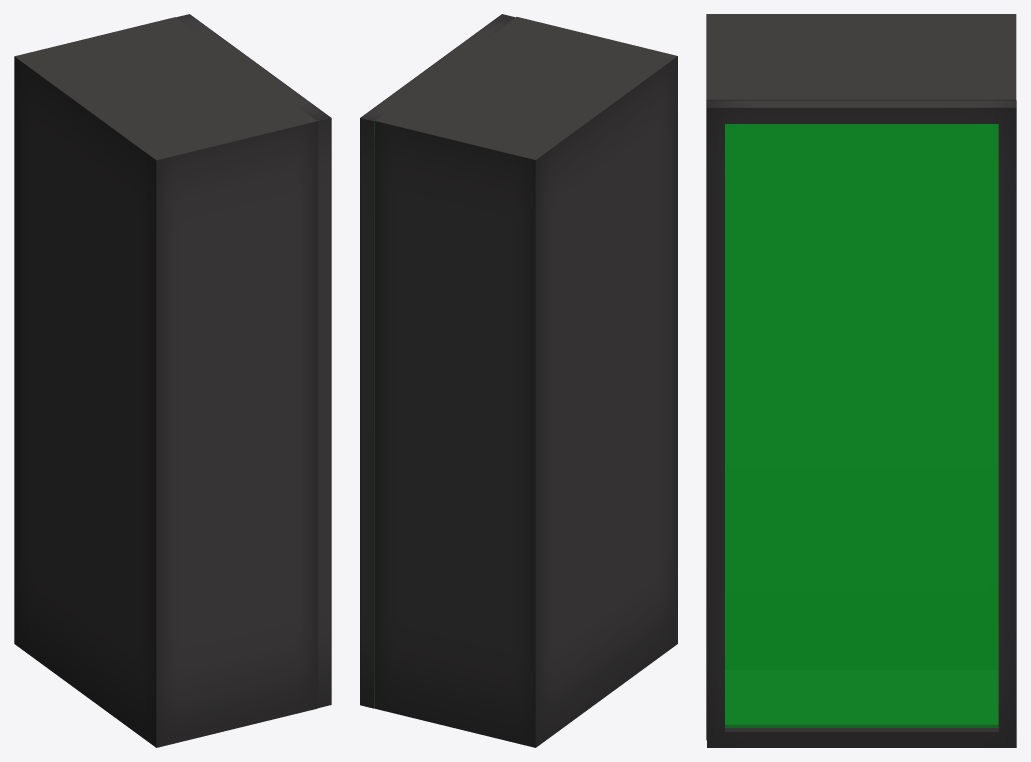
File: SM_Cabinet.fbx
3 renders of one model, left to right at view 1: azimuth 30°, elevation 25°; view 2: azimuth 150°, elevation 25°; view 3: azimuth 270°, elevation 25°, orthographic. The views are drawn at different scales.
Visible parts, largest first — view 1: Back; view 2: Back; view 3: Back.
Boxes of the visible parts, x1,y1,x2,y2 form: Back: [14, 14, 331, 747]; Back: [360, 14, 677, 747]; Back: [706, 14, 1016, 747].
Size of the model in its own units: 1.75 by 5.59 by 2.45.
Materials: 2 (1 with a texture image).
